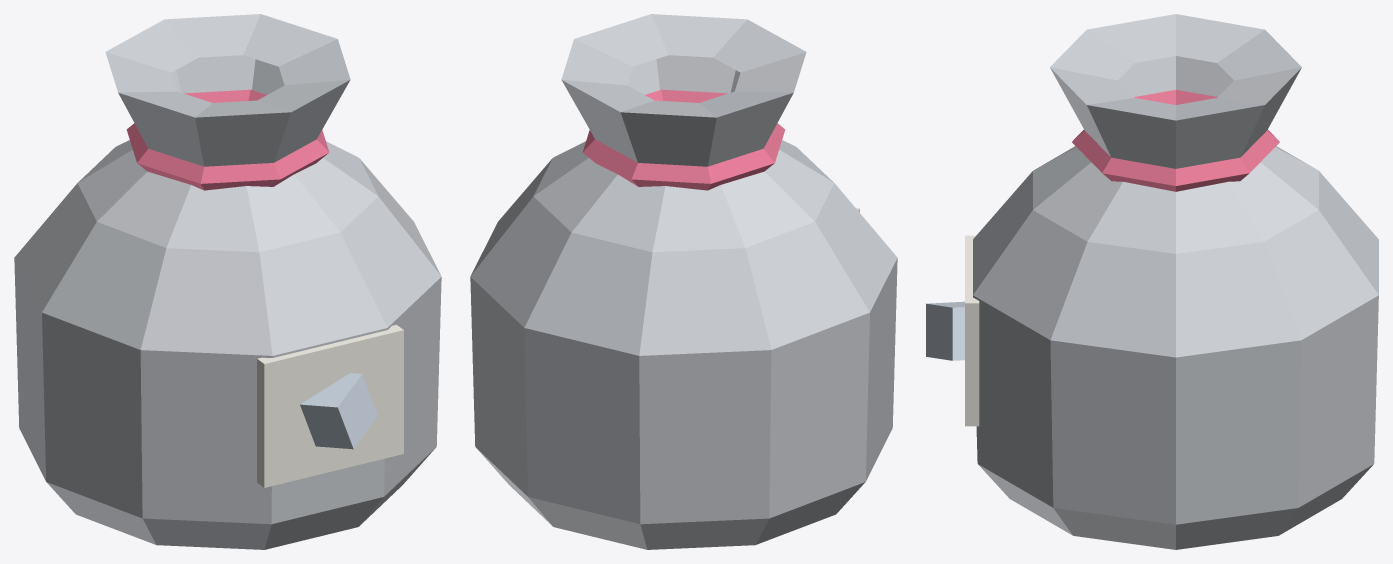
File: Food_Sugar.obj
3 views of the same model, side by side, from view 1: azimuth 30°, elevation 25°; view 2: azimuth 150°, elevation 25°; view 3: azimuth 270°, elevation 25° (orthographic).
Bounding box in the file's own units: 1.76 × 1.86 × 1.87.
